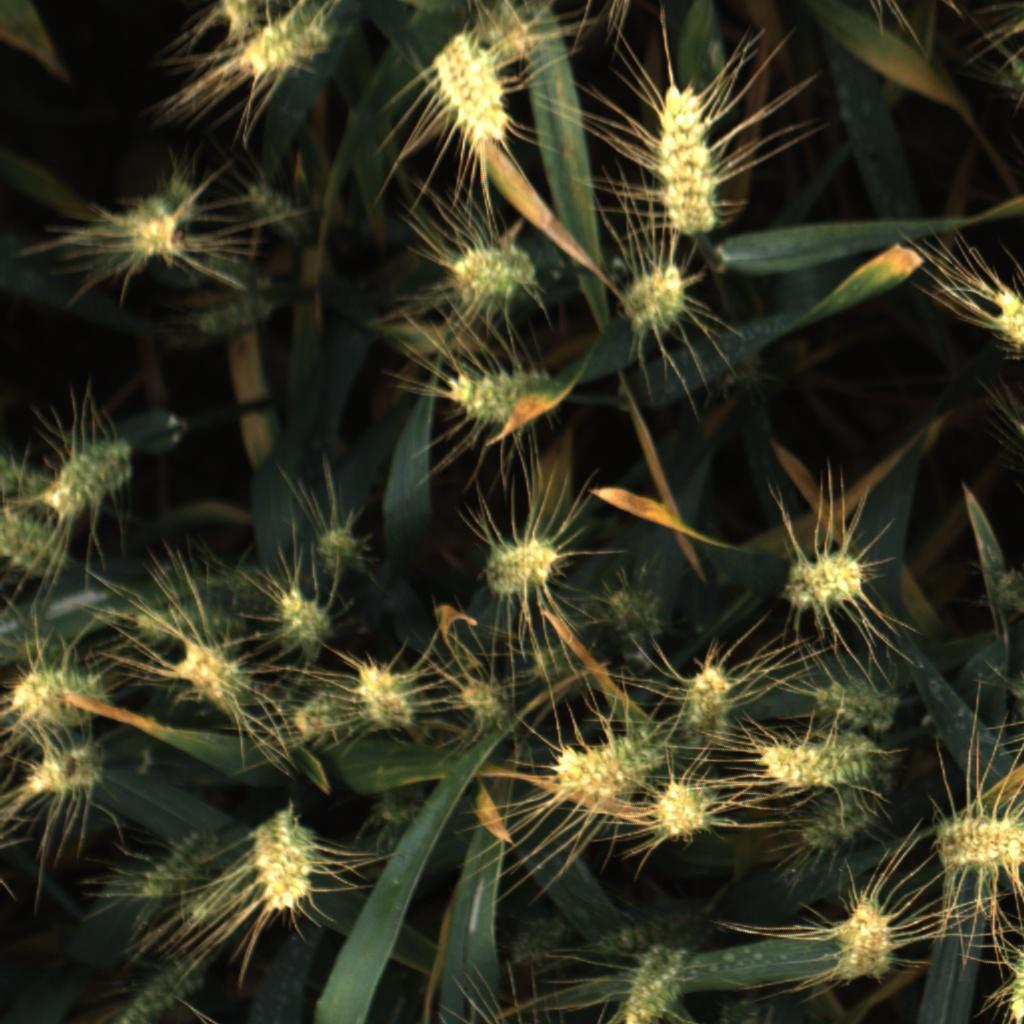0-0: (641, 75, 738, 230), (120, 590, 250, 661), (432, 34, 512, 146), (37, 429, 140, 514), (242, 810, 321, 917), (551, 730, 661, 802), (444, 356, 554, 426), (1, 499, 82, 588), (765, 732, 884, 791), (618, 257, 698, 344), (241, 8, 327, 88), (5, 663, 105, 731), (170, 642, 256, 720), (445, 236, 538, 307), (22, 737, 109, 811), (928, 809, 1024, 874), (830, 901, 900, 989), (482, 531, 571, 600), (136, 827, 220, 900), (106, 957, 196, 1024), (235, 169, 310, 248), (593, 900, 703, 953), (809, 674, 908, 732), (622, 943, 692, 1024), (780, 553, 869, 616), (354, 647, 422, 728), (187, 288, 280, 347), (3, 451, 86, 516), (792, 800, 888, 856), (268, 581, 336, 659), (118, 190, 189, 264), (280, 684, 352, 751), (675, 662, 737, 739), (362, 772, 433, 838), (460, 7, 540, 65), (656, 778, 724, 844), (603, 579, 667, 646), (977, 283, 1024, 372), (505, 910, 570, 972), (450, 670, 511, 732), (312, 520, 372, 582), (981, 563, 1024, 615)
